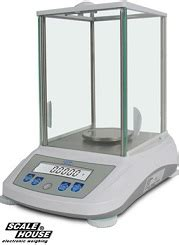Industrial Scale: (2, 1, 179, 227)
